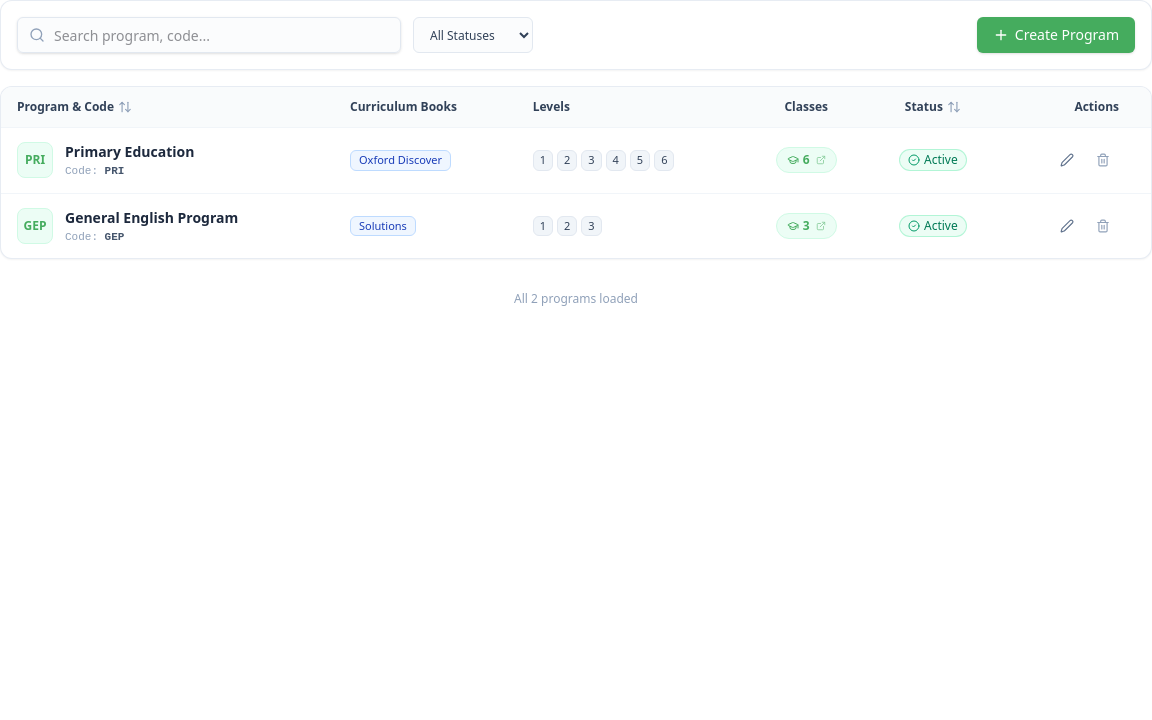
ProgramListTable › opens Create Program dialog on button click
Click the button "Create Program" at (1056, 35), box [977, 17, 1135, 53]
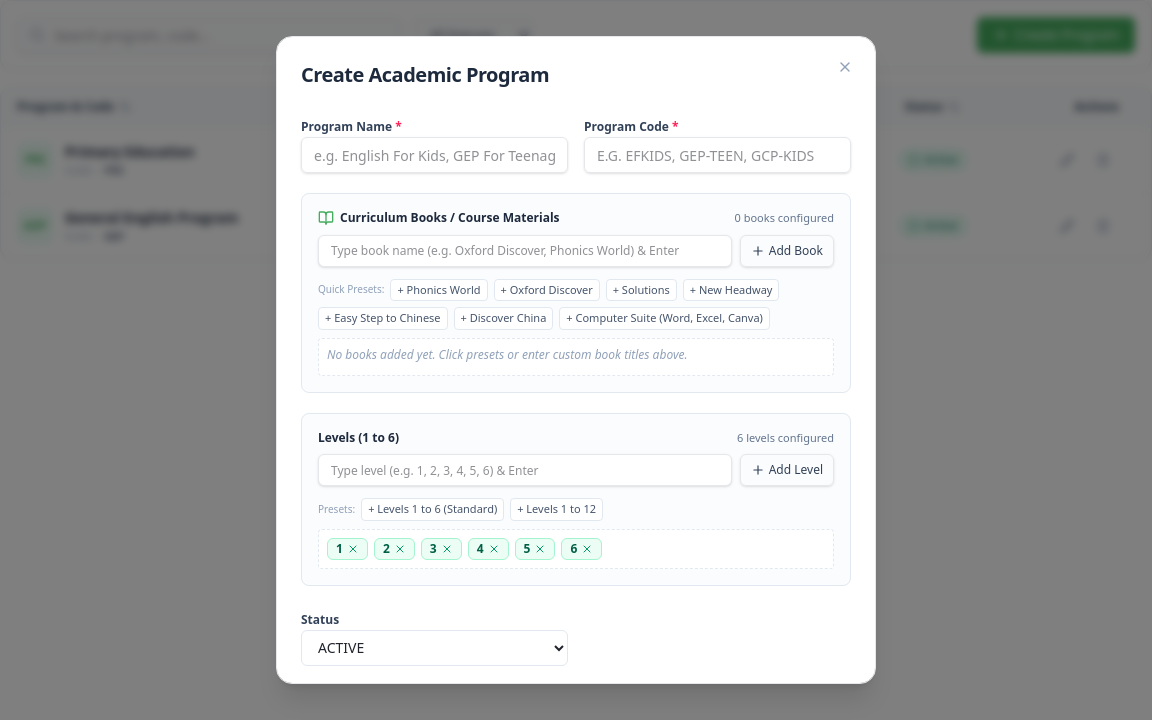
Result: the heading "Create Academic Program" is shown at [301, 61, 549, 88]
Result: the field labelled "Program Name *" is shown at [301, 137, 568, 173]
Result: the field labelled "Program Code *" is shown at [584, 137, 851, 173]
